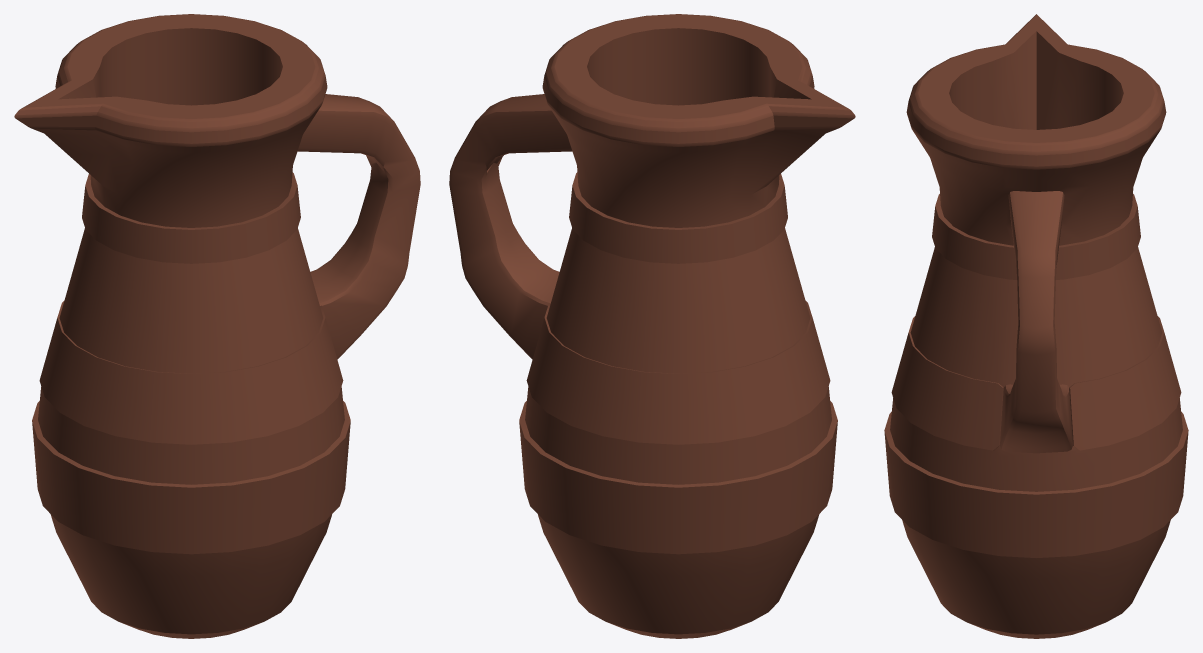
Rendered from Vase1_RJ_16-11.fbx.
3 views of the same model, side by side, from view 1: azimuth 30°, elevation 25°; view 2: azimuth 150°, elevation 25°; view 3: azimuth 270°, elevation 25° (orthographic). The views are drawn at different scales.
Parts seen in each view (by area): view 1: Cylinder; view 2: Cylinder; view 3: Cylinder.
Part boxes in pixels (box(x1,y1,x2,y2)): Cylinder: box(14, 14, 420, 638); Cylinder: box(449, 14, 855, 638); Cylinder: box(884, 14, 1188, 638).
Bounding box in the file's own units: 68.92 × 89.27 × 47.72.
